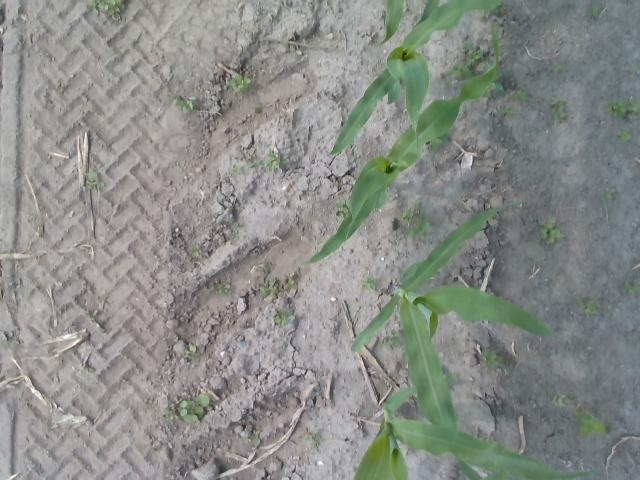Maize: (352, 196, 552, 480), (303, 22, 500, 267), (352, 372, 618, 480), (328, 0, 500, 155), (379, 1, 439, 44)
Weeds: (576, 404, 608, 440), (402, 202, 430, 238), (178, 392, 209, 423), (538, 217, 564, 245), (86, 0, 124, 16), (482, 347, 504, 369), (609, 102, 639, 118), (172, 96, 198, 114), (379, 329, 399, 350), (276, 308, 296, 328), (552, 96, 568, 120), (259, 278, 279, 297), (446, 63, 471, 78), (228, 75, 251, 91), (578, 298, 598, 316), (361, 275, 382, 292), (282, 270, 299, 290), (464, 42, 481, 59), (623, 277, 638, 296), (268, 154, 288, 168), (204, 284, 230, 294), (246, 154, 264, 168), (336, 198, 348, 218), (551, 393, 566, 407), (164, 408, 178, 422), (263, 261, 274, 277), (512, 88, 526, 100), (586, 6, 598, 19), (184, 345, 197, 357), (192, 244, 203, 258), (606, 186, 616, 200), (618, 131, 630, 142), (489, 82, 502, 92), (253, 430, 260, 446), (232, 164, 242, 174), (87, 168, 97, 178), (502, 106, 512, 115), (552, 64, 561, 73), (305, 433, 315, 441), (96, 180, 104, 189), (86, 181, 94, 189), (245, 438, 251, 443)
